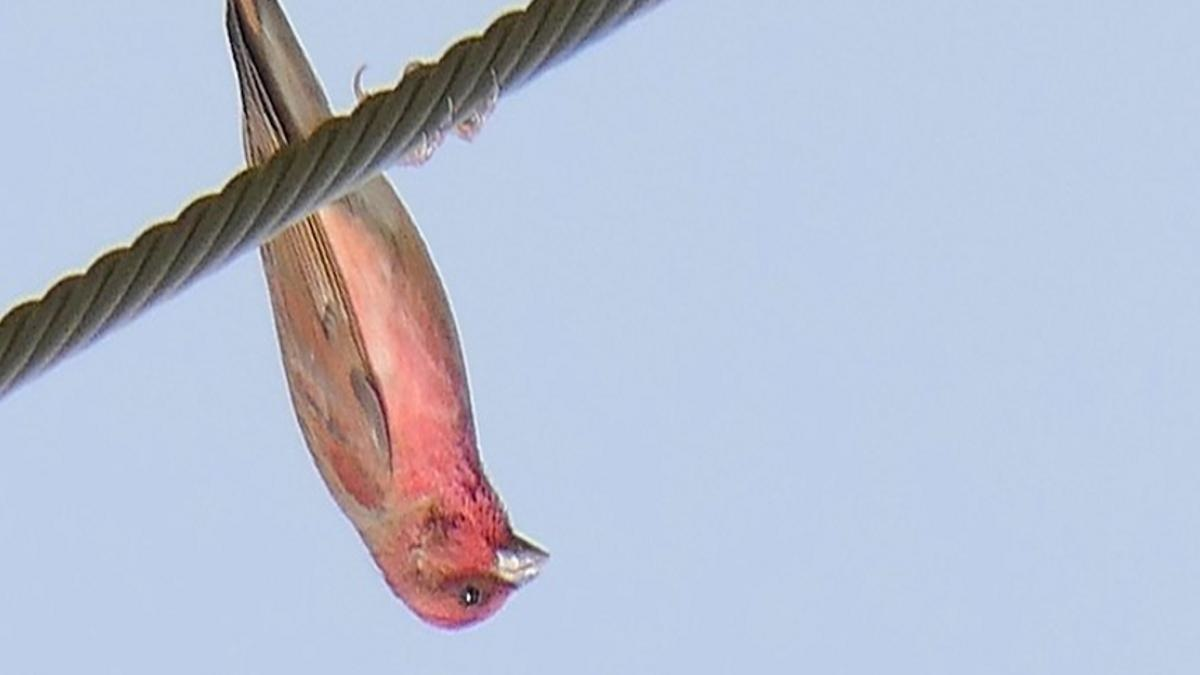rosefinch: (197, 1, 576, 634)
